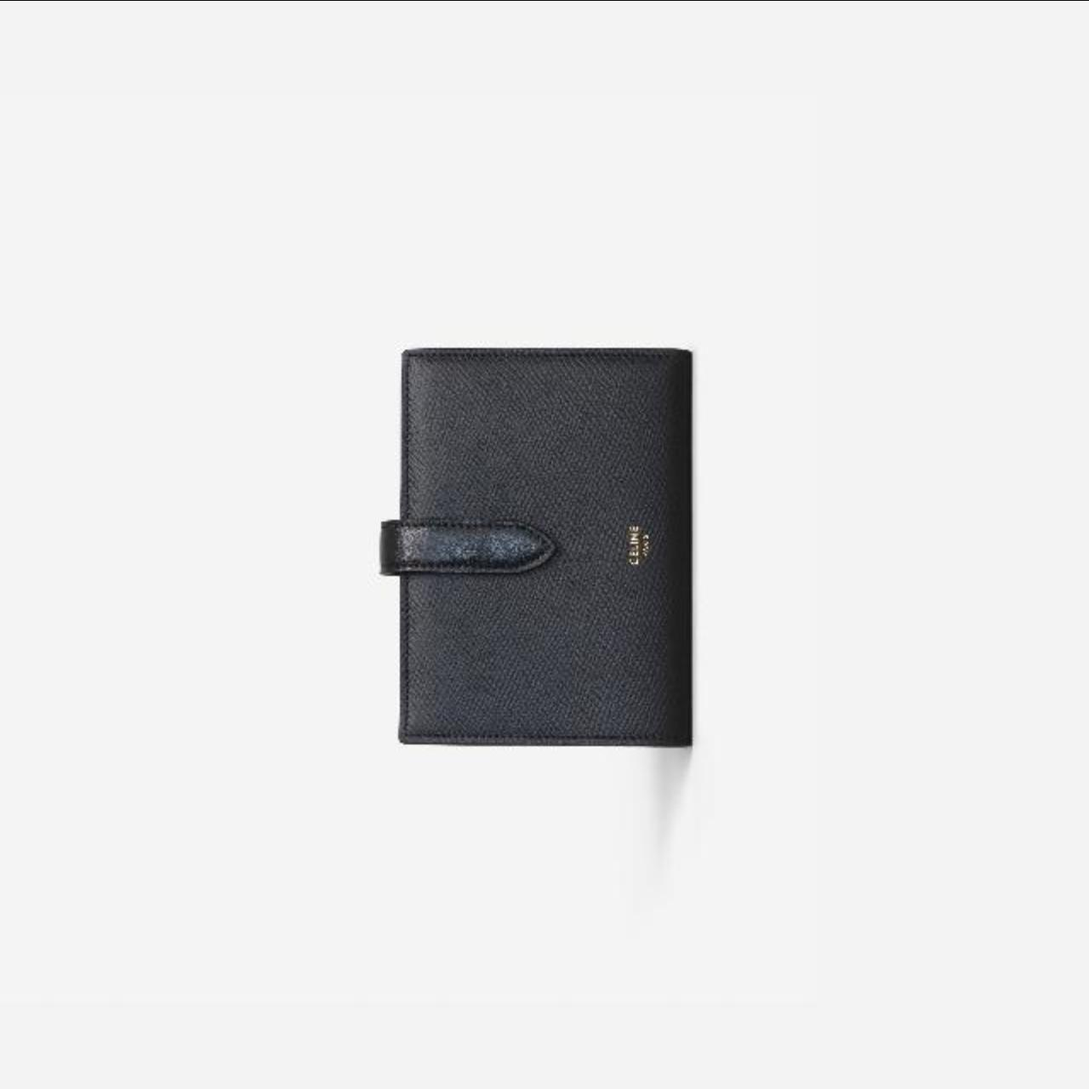wallet: (353, 327, 721, 762)
